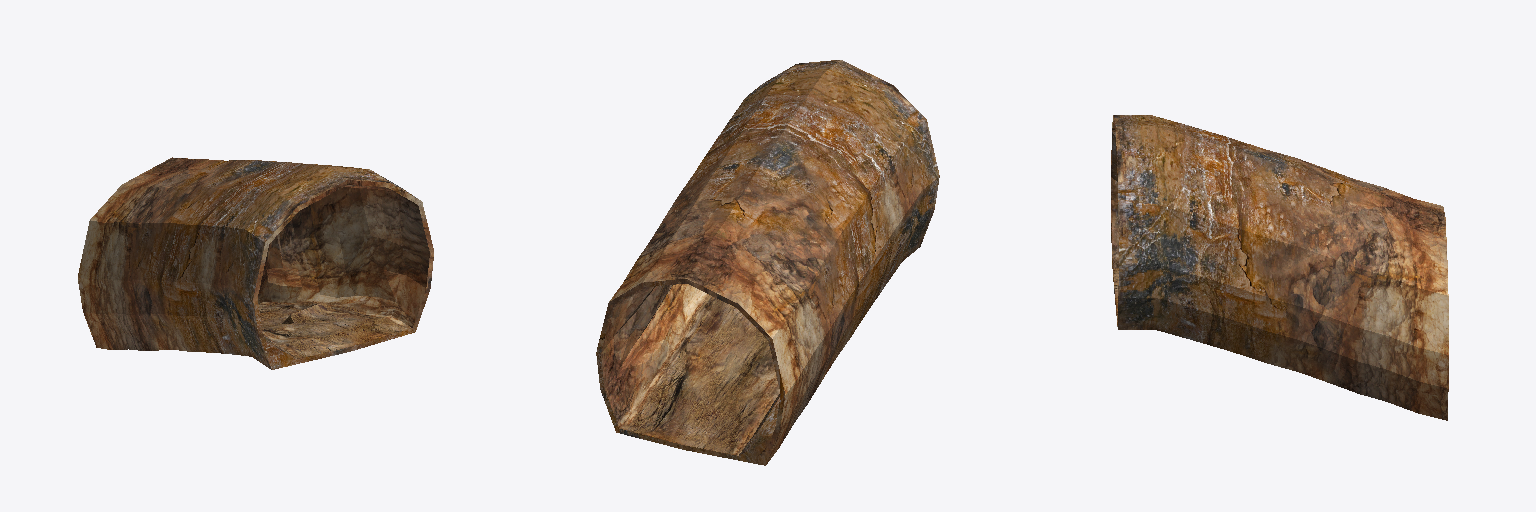
3 renders of one model, left to right at view 1: azimuth 30°, elevation 25°; view 2: azimuth 150°, elevation 25°; view 3: azimuth 270°, elevation 25°, orthographic.
Visible parts, largest first — view 1: Group11_cave6; view 2: Group11_cave6; view 3: Group11_cave6.
Boxes of the visible parts, box(x1,y1,x2,y2) form: Group11_cave6: box(78, 157, 433, 369); Group11_cave6: box(596, 60, 939, 465); Group11_cave6: box(1111, 115, 1448, 420).
Size of the model in its own units: 108 by 141 by 161.
1 materials, 1 textured.